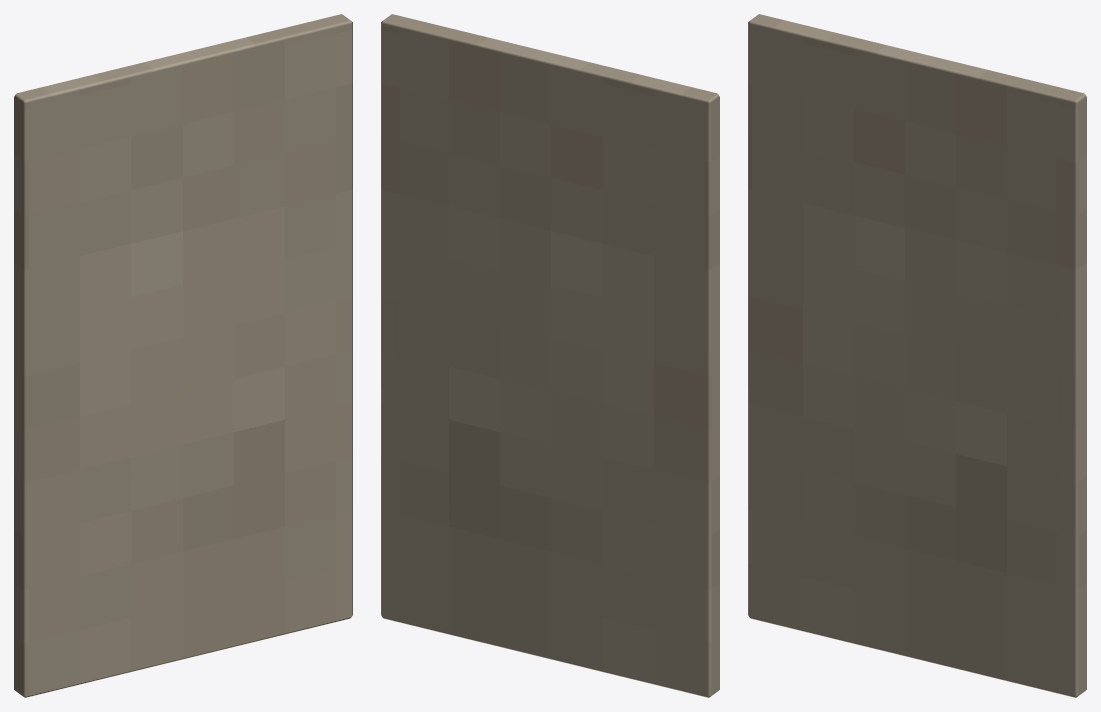
File: Metal-bed.glb
The picture shows the model from 3 angles, left to right: view 1: azimuth 30°, elevation 25°; view 2: azimuth 150°, elevation 25°; view 3: azimuth 330°, elevation 25°; orthographic projection.
Visible parts, largest first — view 1: Metal-bed; view 2: Metal-bed; view 3: Metal-bed.
Boxes of the visible parts, left/top/right/bottom form: Metal-bed: left=14, top=14, right=352, bottom=697; Metal-bed: left=381, top=14, right=719, bottom=697; Metal-bed: left=748, top=14, right=1086, bottom=697.
Size of the model in its own units: 0.253 by 0.438 by 0.015.
1 material, 1 textured.
